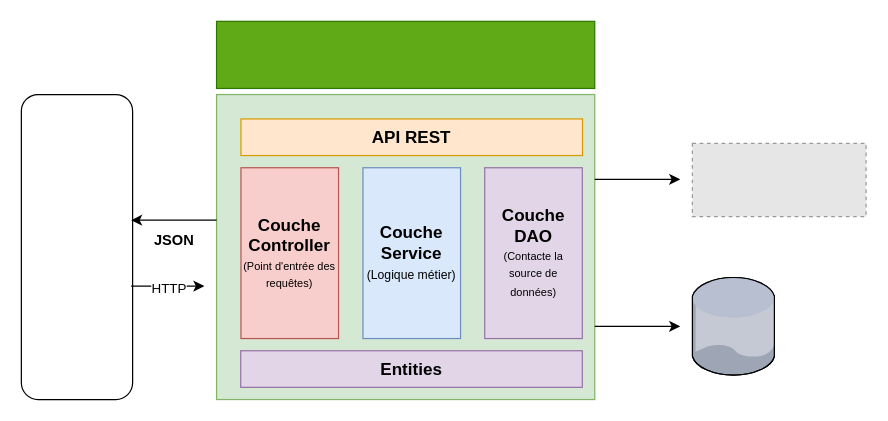
Image size: 888x421. Some labels were removed from this diagram. Grey dashed boxes stand in for pictures. Here are the shapes that lost their labels. From the top down, the centre of each, then its label:
At [405,54]: "Web + IOC Container (Spring Boot)".
At [76,246]: "Client HTTP HMTL".
